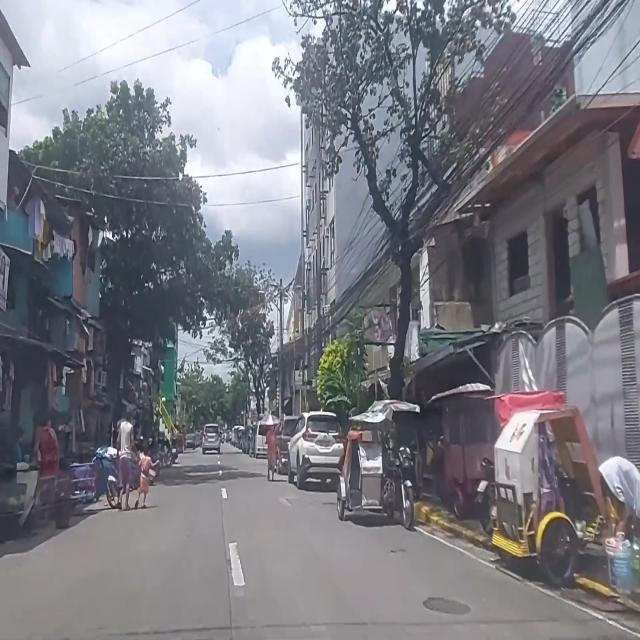car: (288, 412, 346, 492), (275, 415, 300, 475), (201, 424, 221, 454), (184, 428, 198, 450)
motorcycle: (157, 438, 174, 468), (170, 436, 179, 464)
tricycle: (474, 391, 612, 586), (337, 400, 420, 530), (70, 446, 119, 507)
